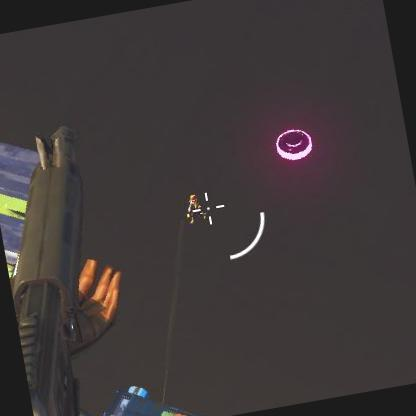person: (185, 194, 205, 216)
